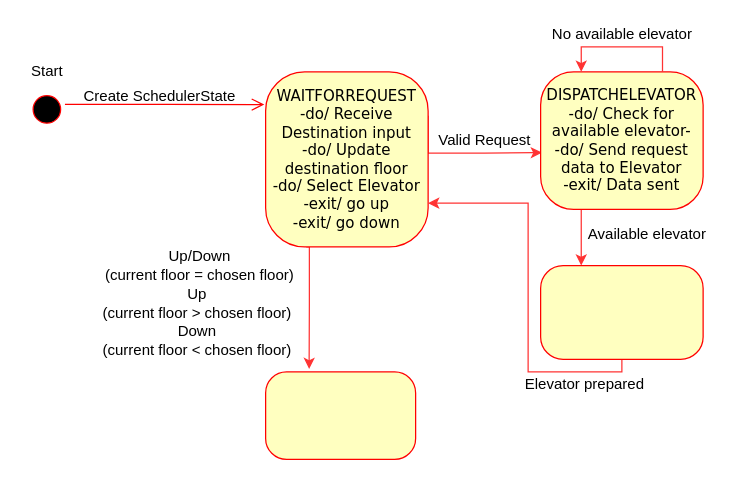
Some shapes in this 736 by 481 pixel diagram are drawn without their labels. The shapes that lost their labels are listed below. From the top down, each one's box as (x1, y1, x2, y2) in pixels, then its label:
(539, 264, 703, 359): WAITFORELEVATOR -do/ Receive elevator data -exit/ Data received
(264, 371, 416, 459): INVALID -do/ Report error -exit/ Stop program
